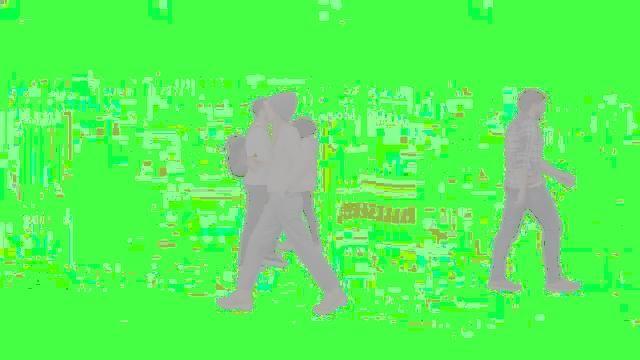berjalan: (213, 81, 347, 317), (481, 82, 581, 298)
